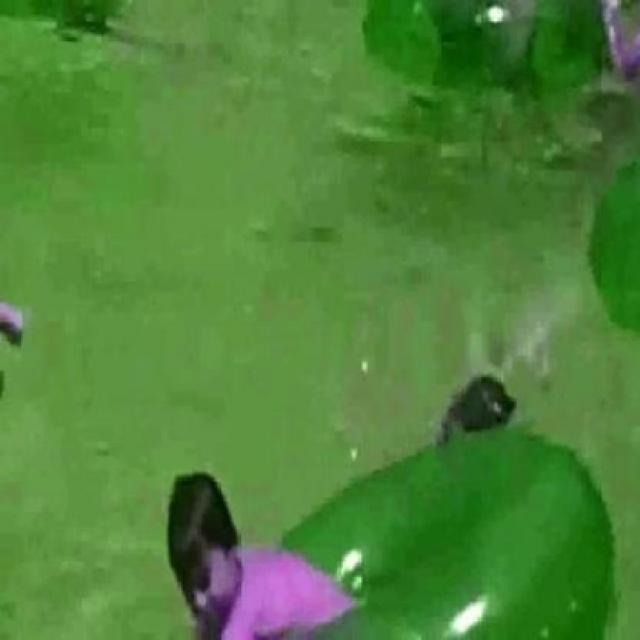drowning: (141, 463, 334, 640), (395, 294, 616, 441)
